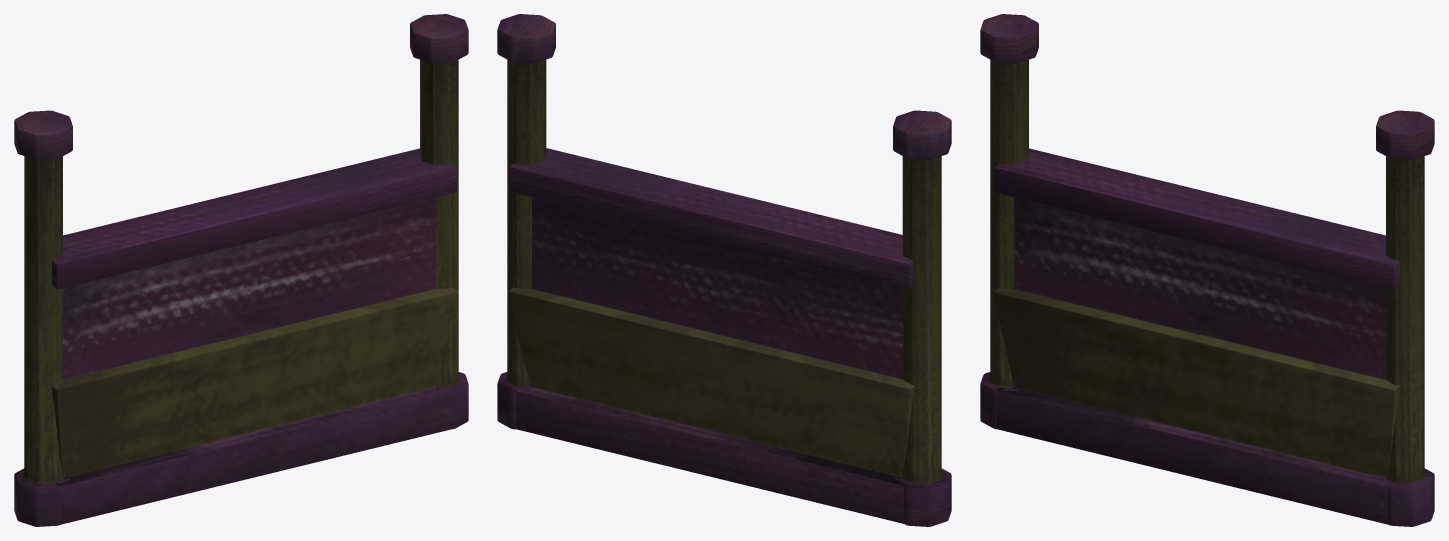
File: MANOR_WALL_3_2_002.obj
3 views of the same model, side by side, from view 1: azimuth 30°, elevation 25°; view 2: azimuth 150°, elevation 25°; view 3: azimuth 330°, elevation 25° (orthographic).
Parts seen in each view (by area): view 1: MANOR_WALL_3_2_002; view 2: MANOR_WALL_3_2_002; view 3: MANOR_WALL_3_2_002.
Boxes of the visible parts, <box> form: MANOR_WALL_3_2_002: <box>14,14,468,526</box>; MANOR_WALL_3_2_002: <box>497,14,951,526</box>; MANOR_WALL_3_2_002: <box>980,14,1434,526</box>.
Size of the model in its own units: 3.57 by 3 by 0.4139.
